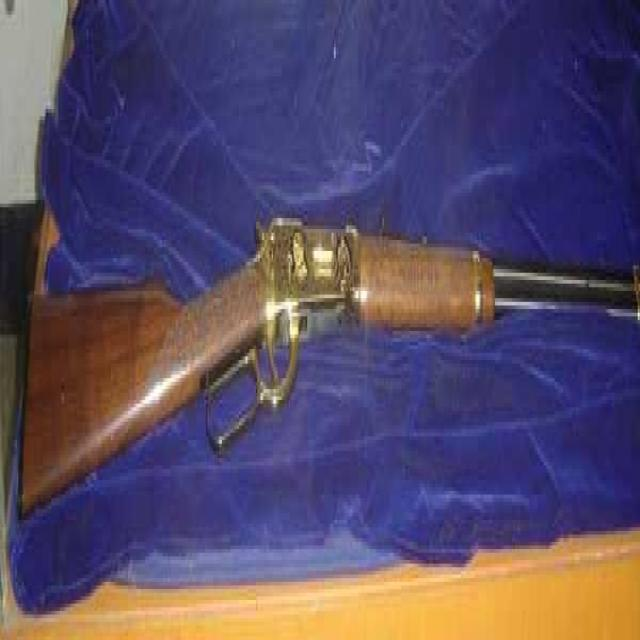weapon: (21, 66, 640, 494)
